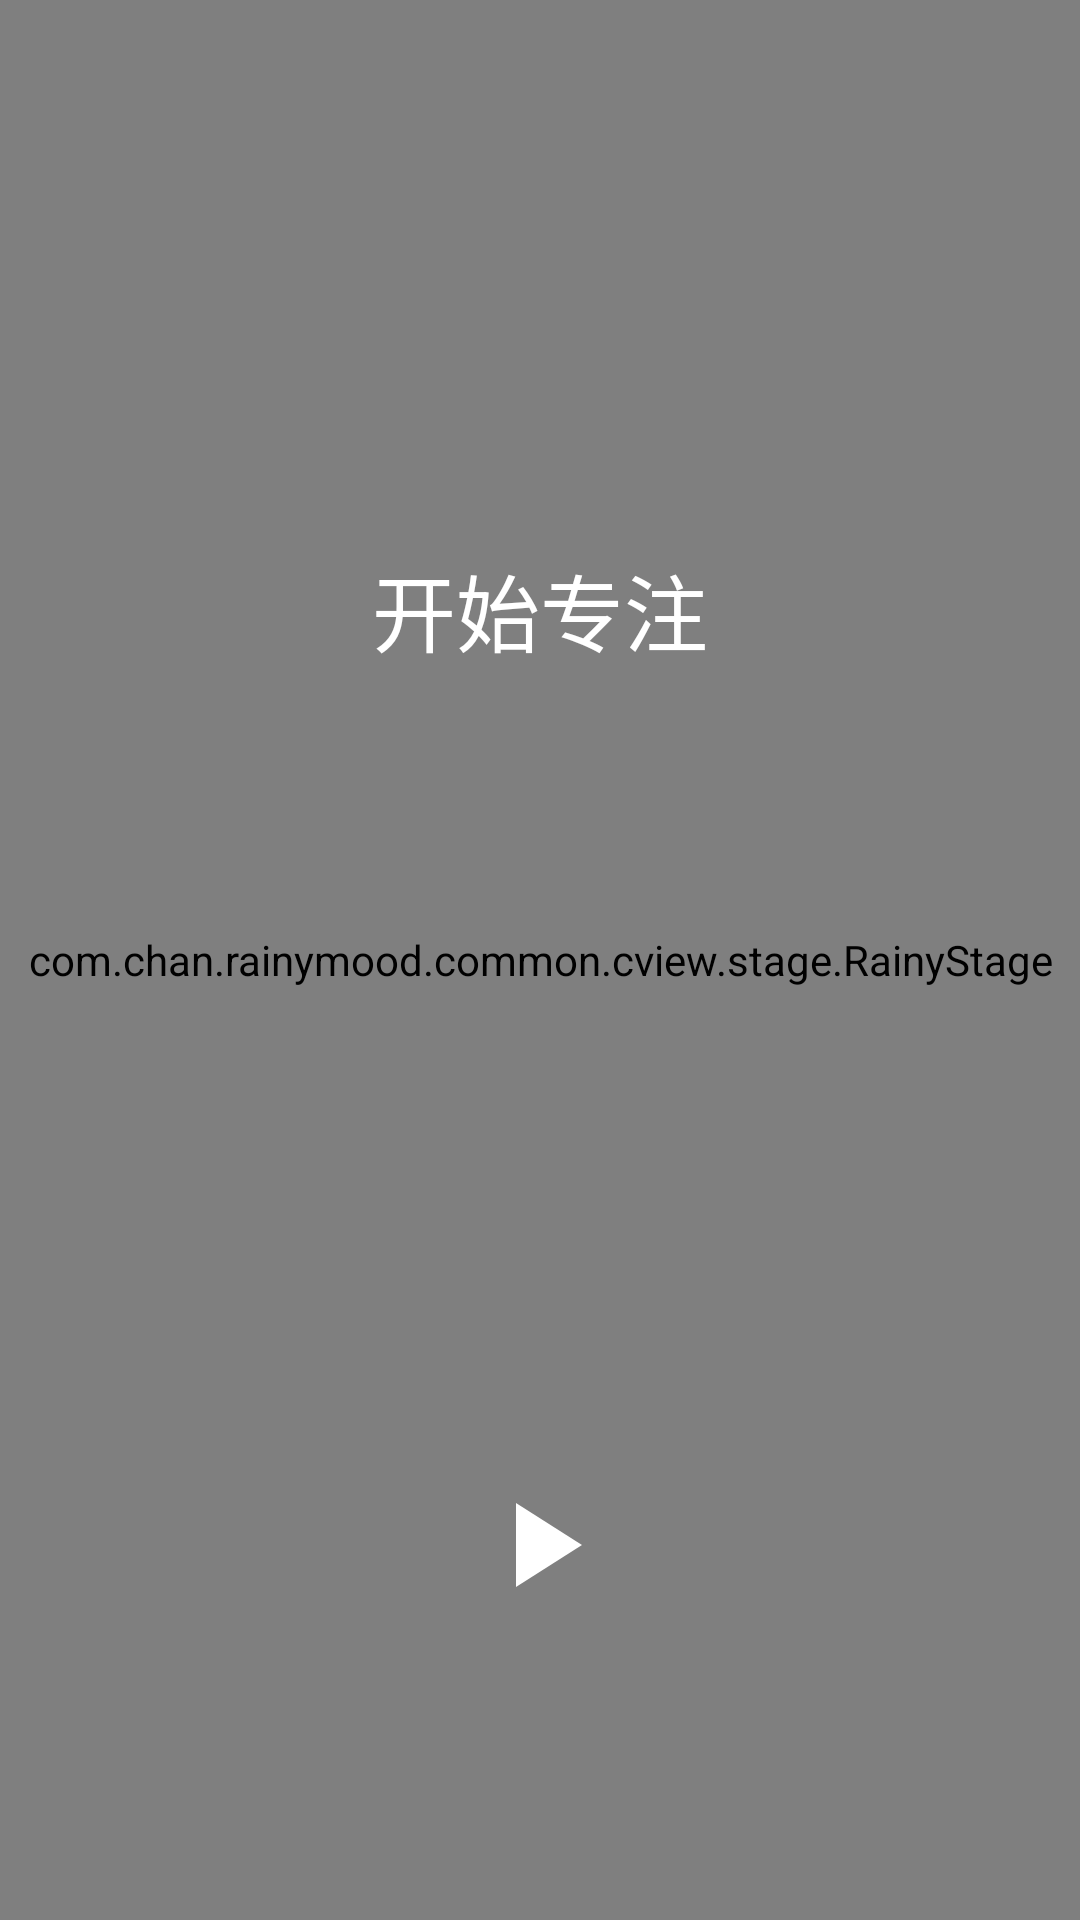

Named icons in this screenshot (1080 × 1920) and their centers, [x,y]:
play: [549,1545]
